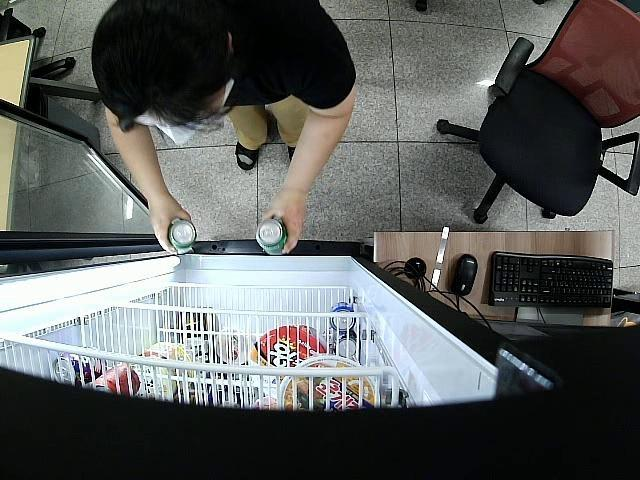12_chilsungCider: (256, 219, 287, 254), (168, 221, 197, 255)
